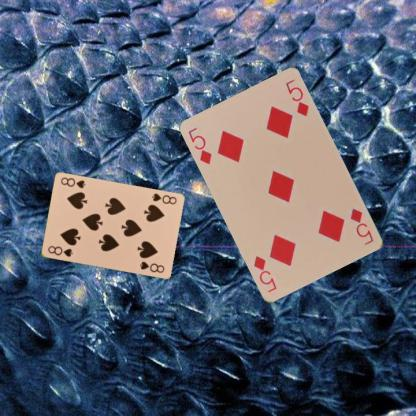5d: (186, 125, 214, 166), (348, 206, 375, 246)
8s: (149, 190, 178, 206), (45, 244, 74, 258)
